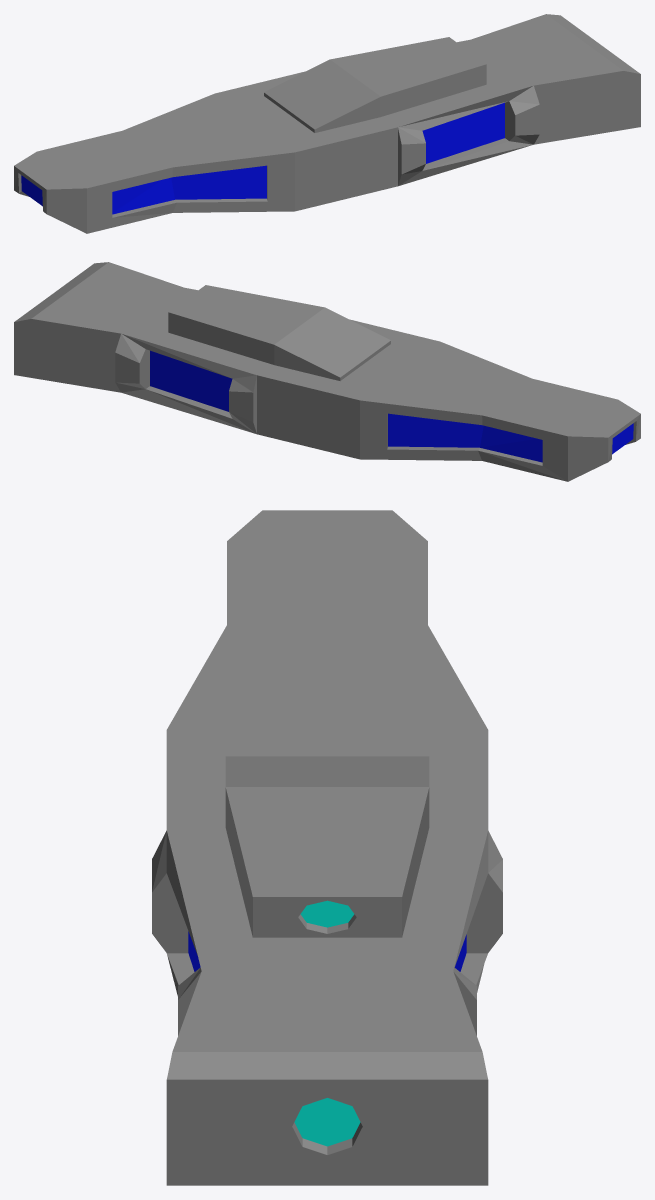
The model's file is AlienSurfaceShatterer.fbx.
The picture shows the model from 3 angles, top to bottom: view 1: azimuth 30°, elevation 25°; view 2: azimuth 150°, elevation 25°; view 3: azimuth 270°, elevation 25°; orthographic projection. The views are drawn at different scales.
Parts seen in each view (by area): view 1: SurfaceShatterer; view 2: SurfaceShatterer; view 3: SurfaceShatterer.
Part boxes in pixels (left/top/right/bottom): SurfaceShatterer: left=14, top=14, right=640, bottom=233; SurfaceShatterer: left=14, top=262, right=640, bottom=481; SurfaceShatterer: left=152, top=510, right=502, bottom=1185.
Size of the model in its own units: 2623 by 349 by 699.
